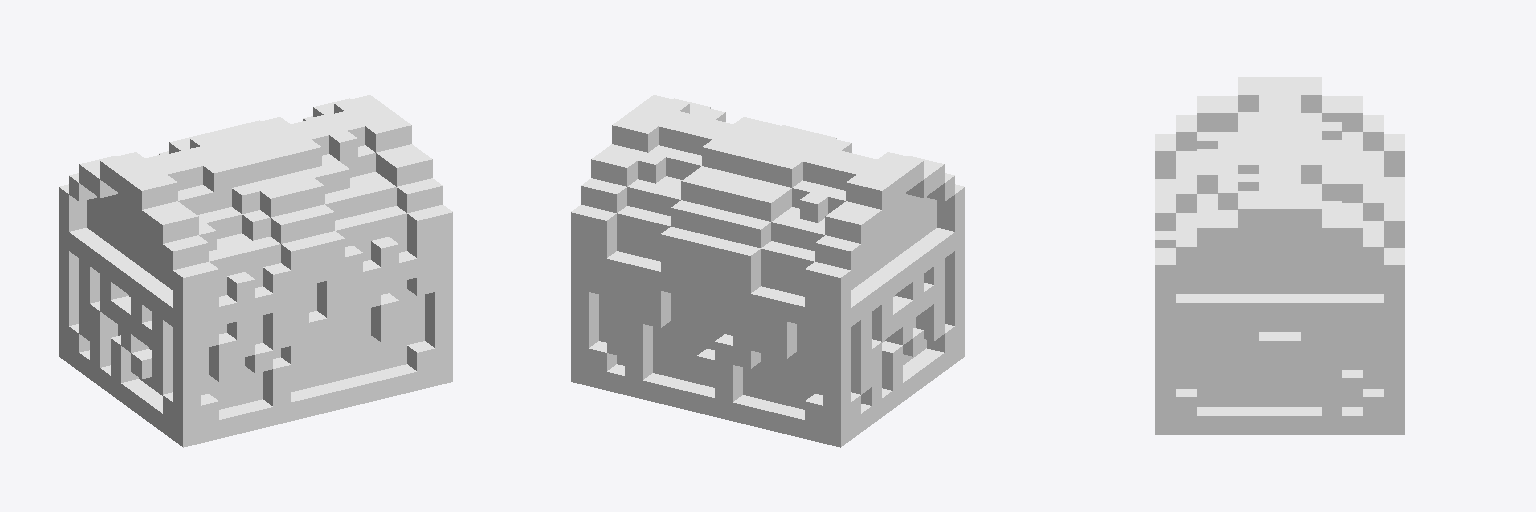
Rendered from chest_vines.obj.
3 views of the same model, side by side, from view 1: azimuth 30°, elevation 25°; view 2: azimuth 150°, elevation 25°; view 3: azimuth 270°, elevation 25° (orthographic).
Parts seen in each view (by area): view 1: object 1; view 2: object 1; view 3: object 1.
Part boxes in pixels (x1,y1,x2,y2): object 1: (59, 95, 452, 447); object 1: (571, 95, 964, 447); object 1: (1155, 77, 1404, 434).
Size of the model in its own units: 1.5 by 1.2 by 1.2.